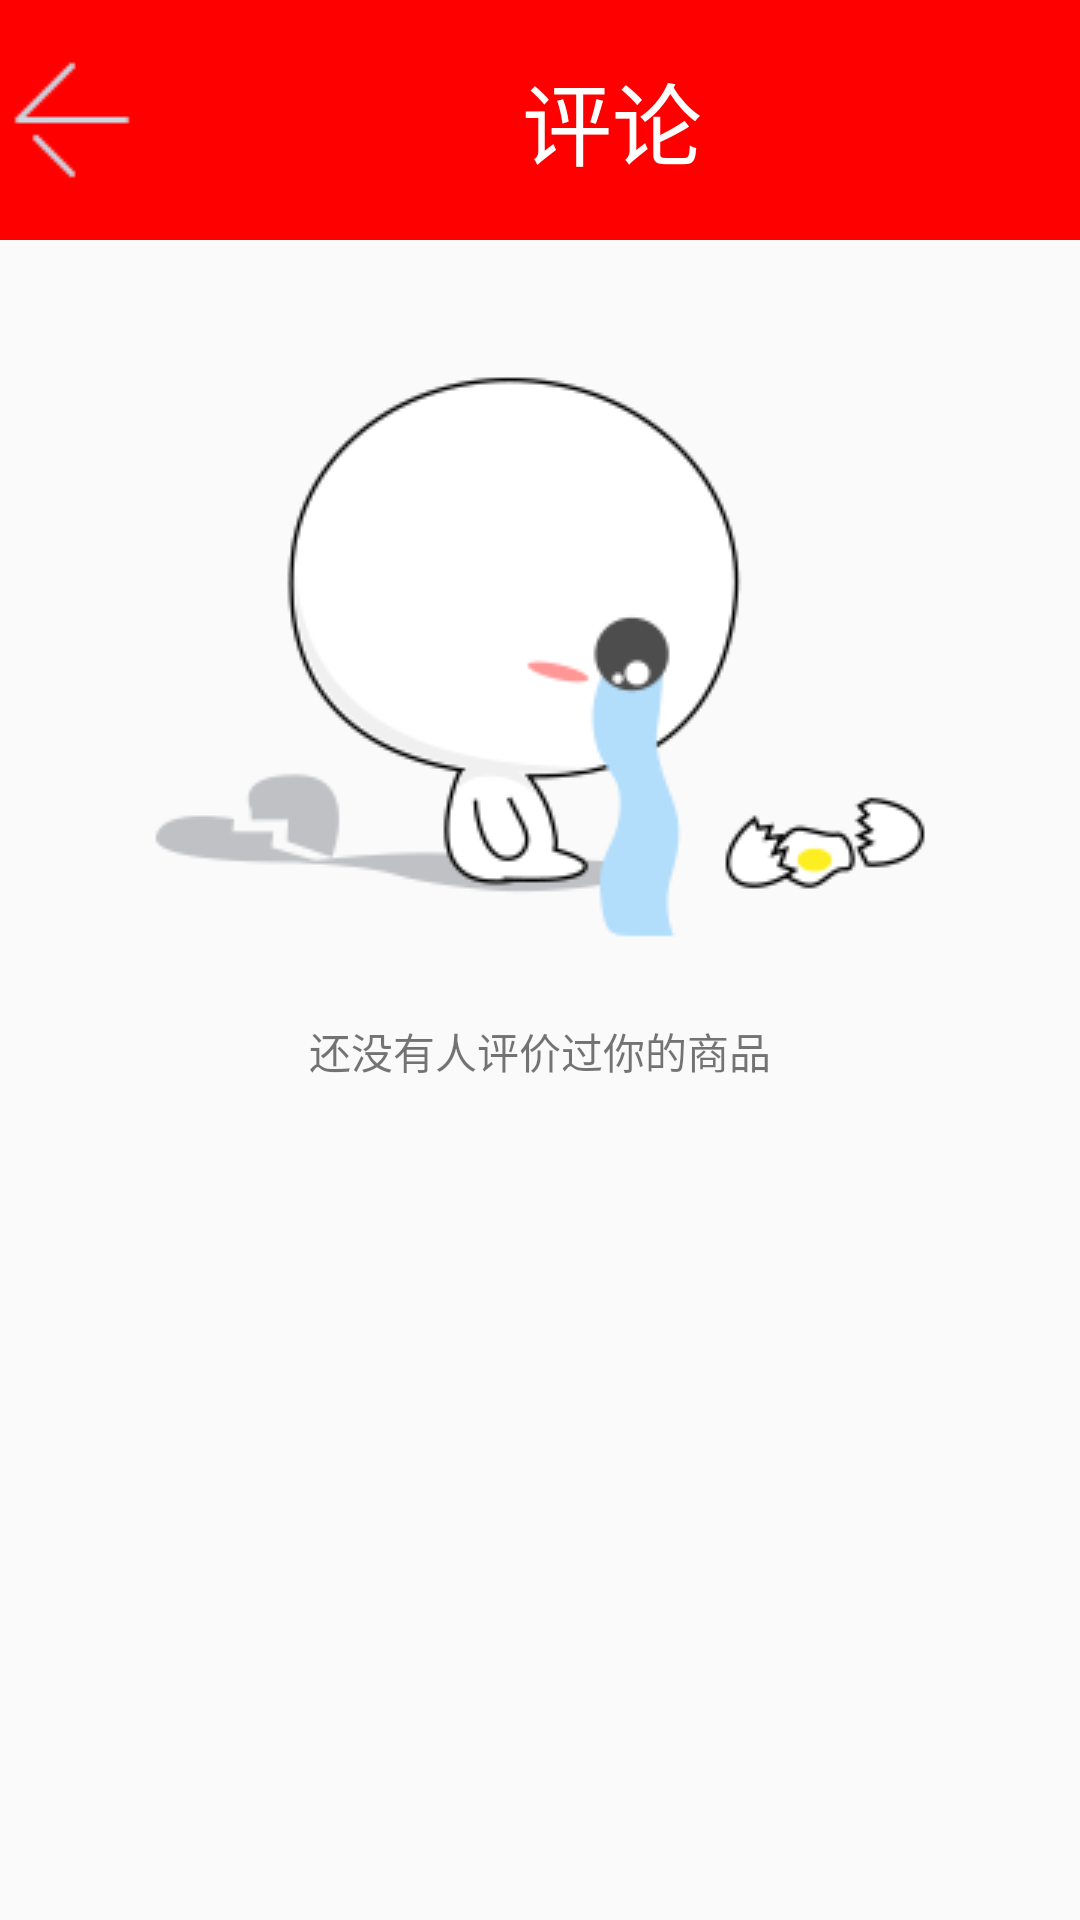

Named icons in this screenshot (1080 x 1920) and their bounding boxes, BBox(x1, y1, x2, y2):
back on: BBox(14, 62, 130, 178)
